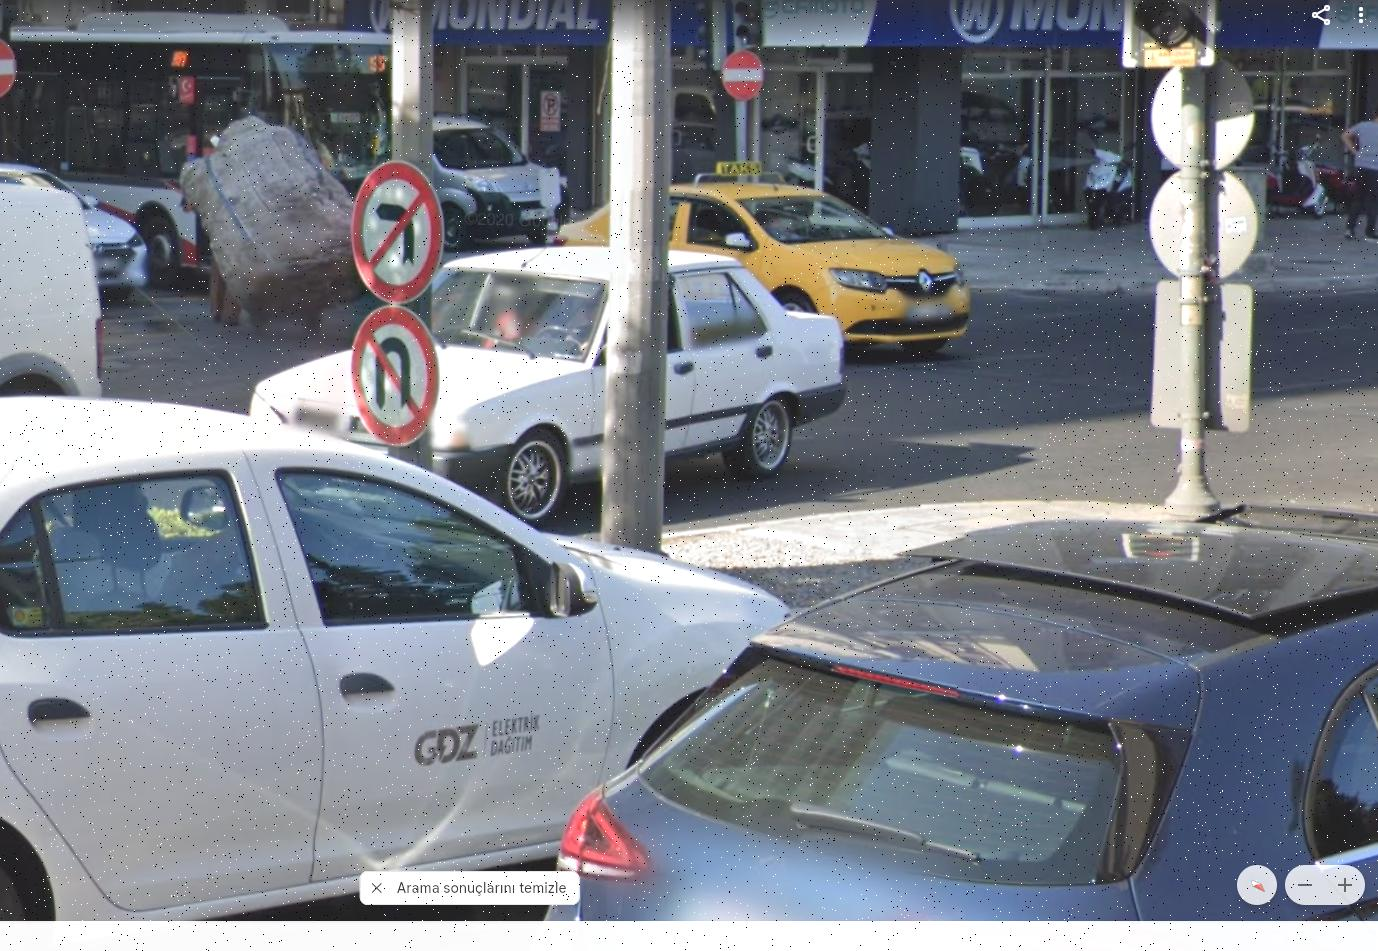leftturnsareforbidden: (347, 153, 461, 302)
